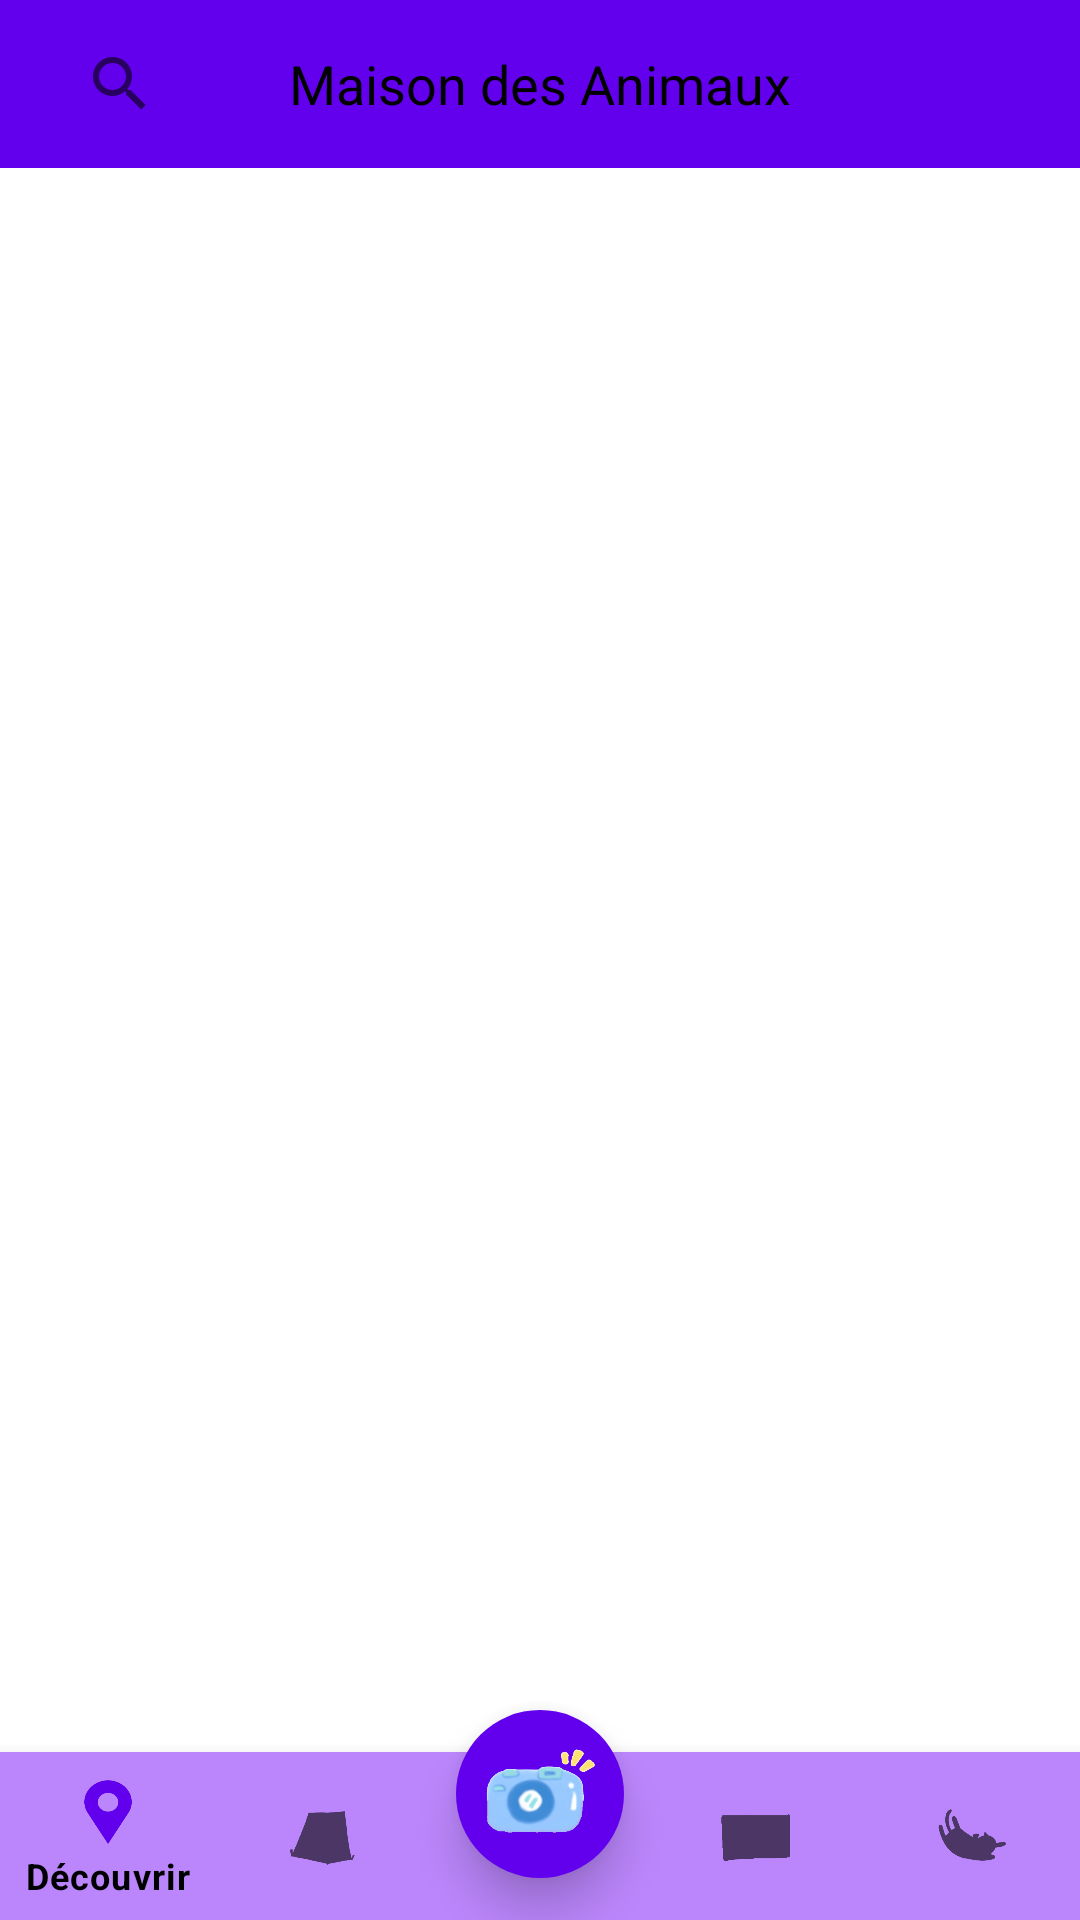

Where to tap for icons on this 1080×1920 app screen, as (x=x, y=y):
camara: (x=540, y=1794)
